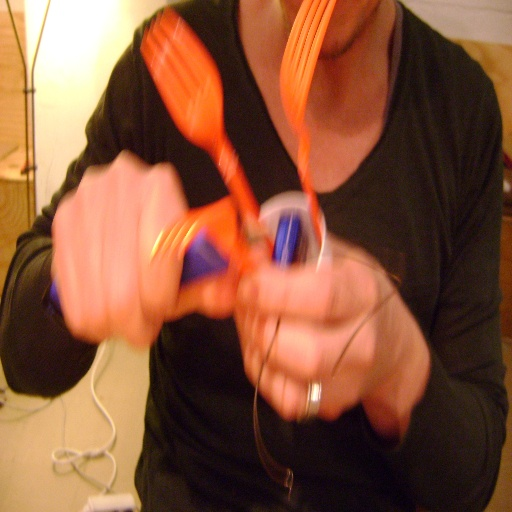hand: (233, 248, 409, 421), (50, 151, 187, 346)
